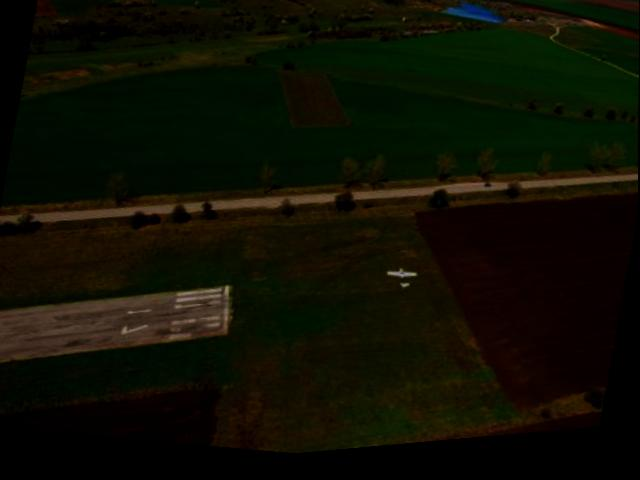uav: (378, 263, 423, 307)
